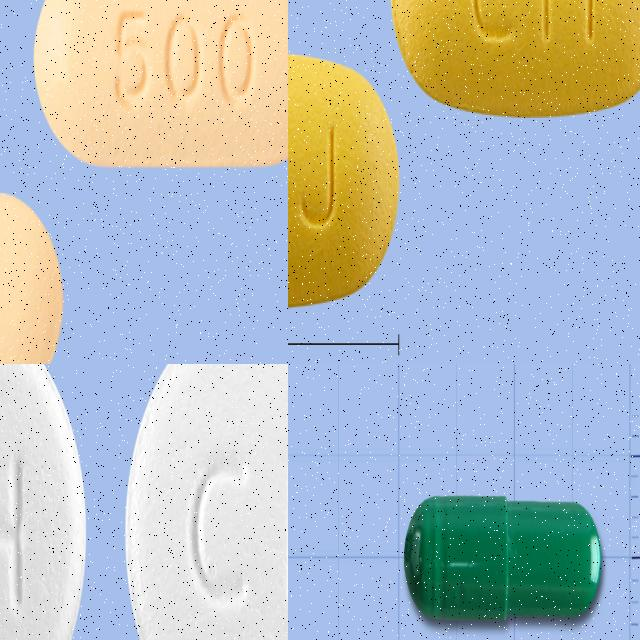Ciroxacin: (121, 364, 288, 640), (0, 364, 91, 640)
Clamon Tab: (288, 41, 404, 314), (389, 0, 640, 118)
Cravit: (33, 0, 288, 165)
Doxiramycin Cap: (404, 493, 604, 626)
